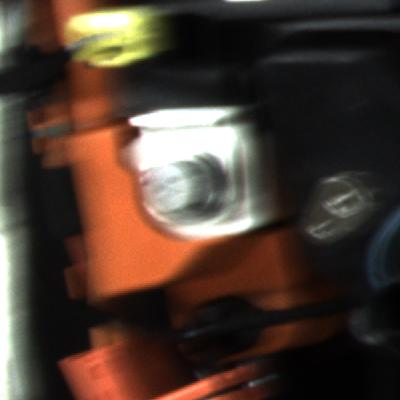nut_b: (138, 145, 233, 231)
